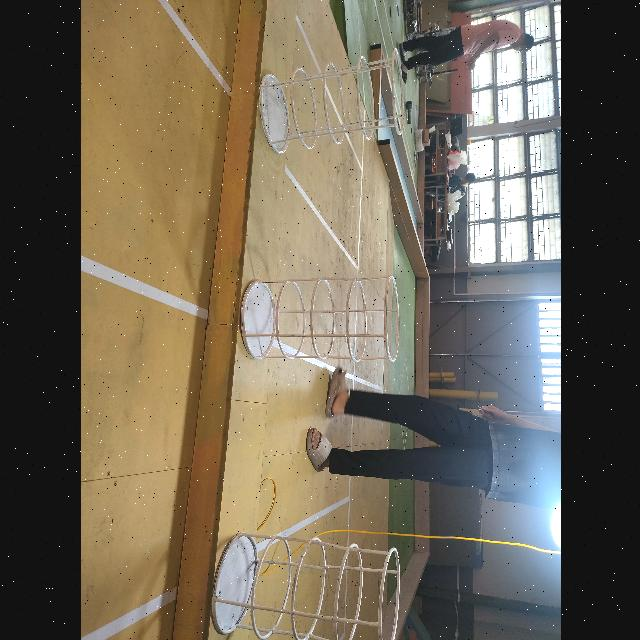S: (210, 530, 406, 640), (234, 274, 406, 364), (251, 66, 411, 156)
